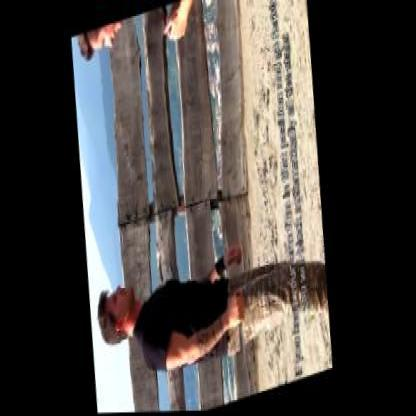knife: (232, 288, 255, 379)
